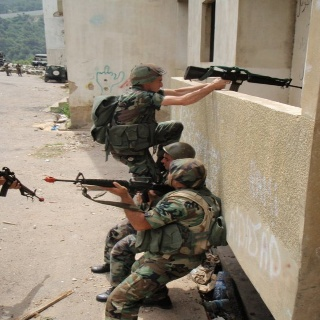rifle: (44, 172, 180, 204), (184, 64, 304, 94), (1, 166, 45, 206)
